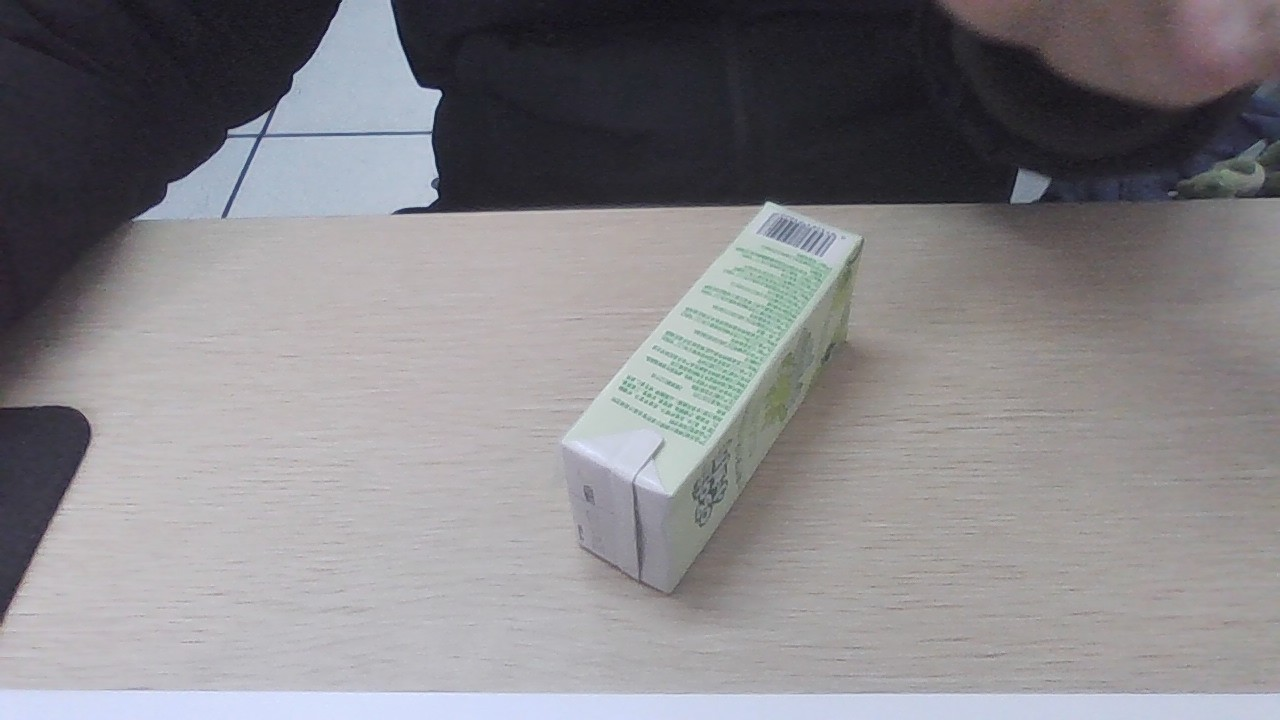CY-drink: (548, 204, 860, 591)
